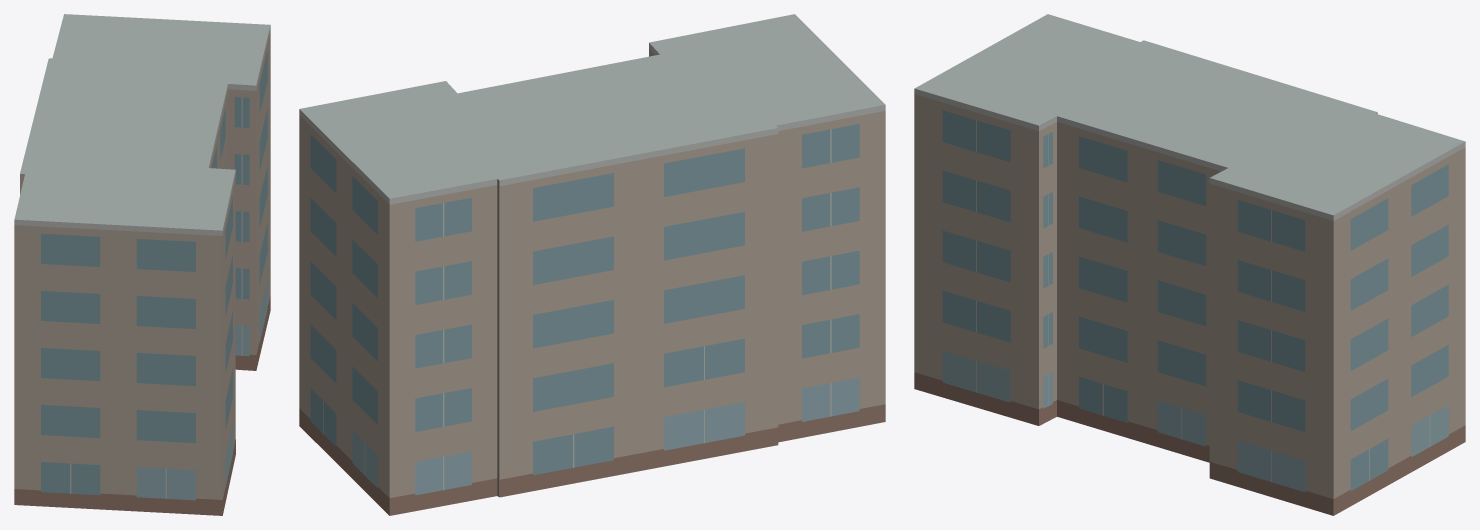
File: survey-upis-32482157.glb
3 views of the same model, side by side, from view 1: azimuth 30°, elevation 25°; view 2: azimuth 150°, elevation 25°; view 3: azimuth 270°, elevation 25° (orthographic). The views are drawn at different scales.
Parts seen in each view (by area): view 1: survey-upis-32482157.tmp; view 2: survey-upis-32482157.tmp; view 3: survey-upis-32482157.tmp.
Part boxes in pixels (x1=…): survey-upis-32482157.tmp: x1=14, y1=14, x2=270, y2=515; survey-upis-32482157.tmp: x1=299, y1=14, x2=885, y2=515; survey-upis-32482157.tmp: x1=914, y1=14, x2=1465, y2=515.
Size of the model in its own units: 18.7 by 13 by 21.62.
